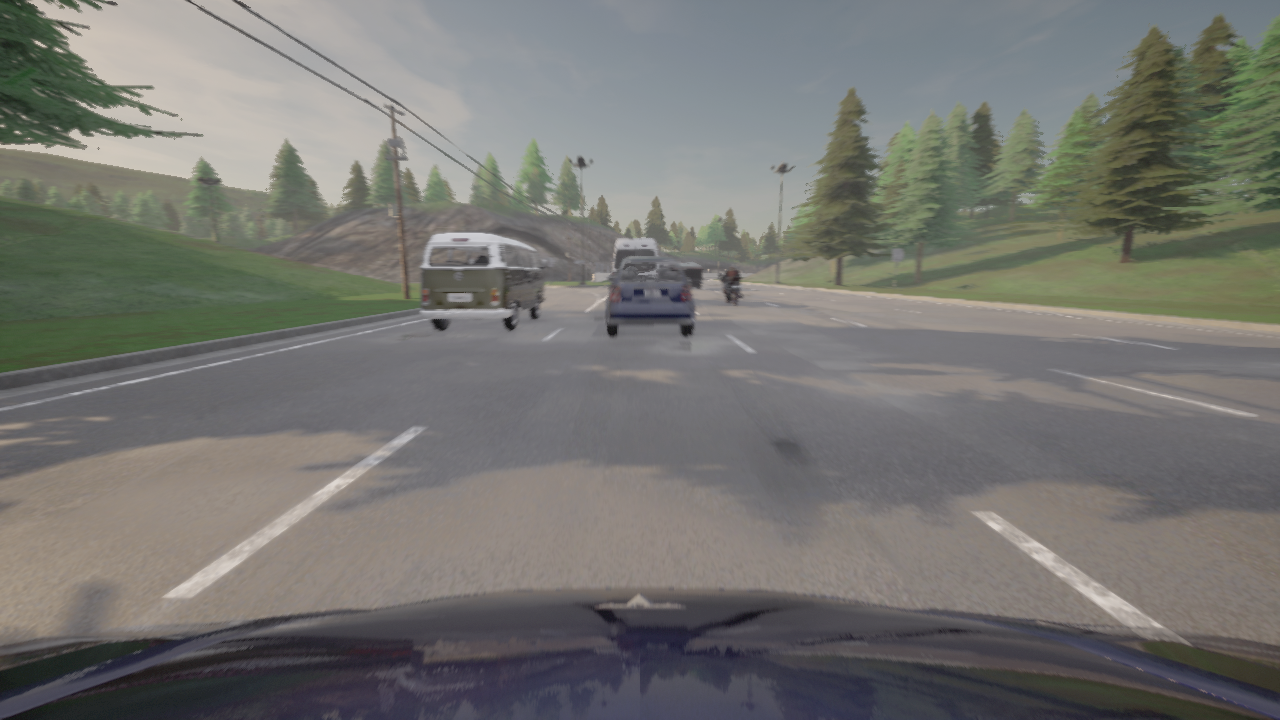cyclist: (0, 588, 1279, 719), (419, 232, 546, 330), (606, 257, 694, 336), (612, 239, 658, 275), (718, 274, 742, 306), (678, 263, 703, 289)
